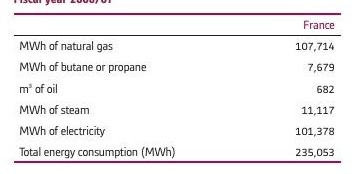table: (0, 0, 356, 174)
